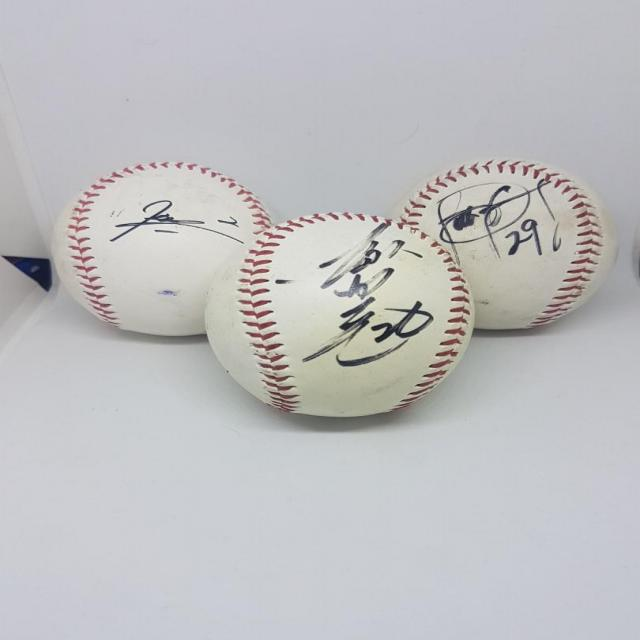baseball: (204, 210, 471, 421), (411, 158, 617, 331), (49, 162, 250, 338)
